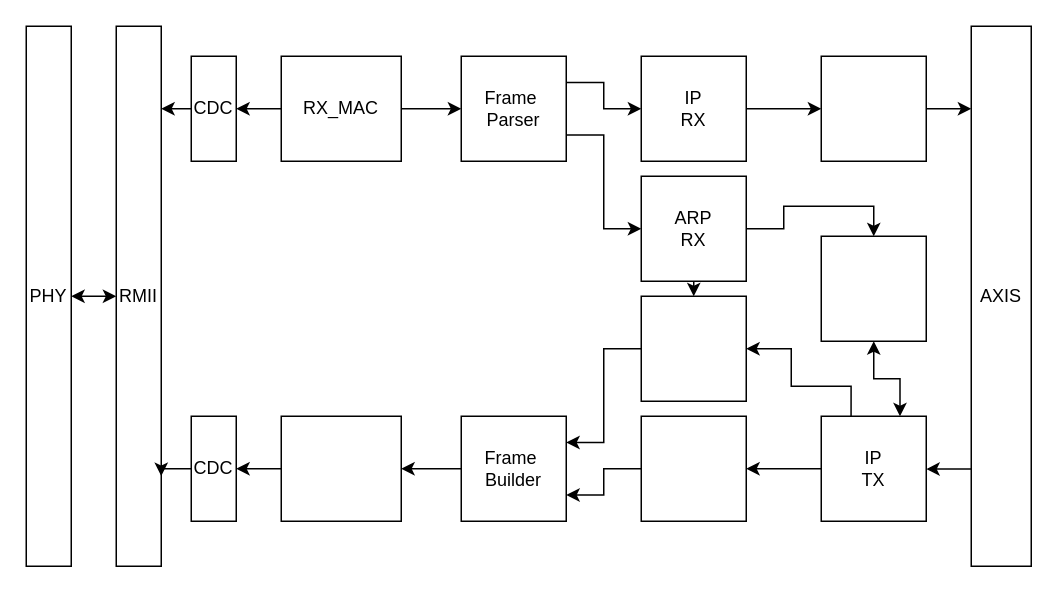
The diagram is 1058 pixels wide and 593 high, and some of its shapes have lost their labels. The box of each missing label's shape, as (x1, y1, x2, y2) in pixels:
ARP Cache: (820, 235, 926, 341)
ARP TX: (640, 295, 746, 401)
TX_MAC: (280, 415, 401, 521)
UDP RX: (820, 55, 926, 161)
UDP TX: (640, 415, 746, 521)
